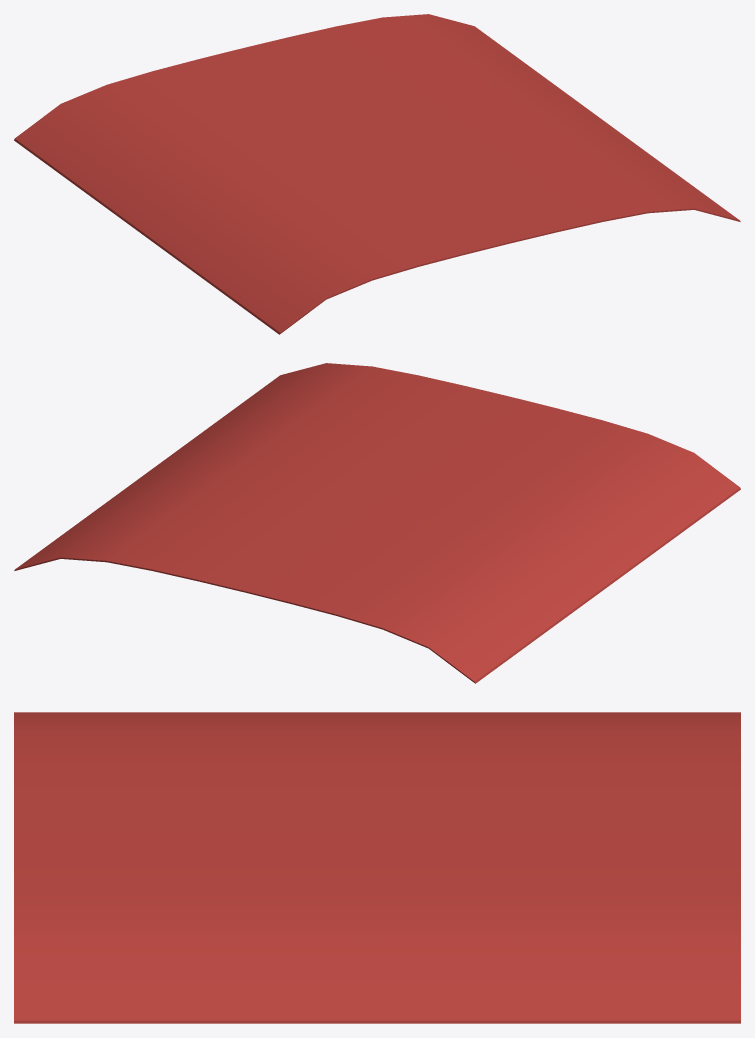
Rendered from valanced_tip.glb.
3 views of the same model, one above another, from view 1: azimuth 30°, elevation 25°; view 2: azimuth 150°, elevation 25°; view 3: azimuth 270°, elevation 25° (orthographic). The views are drawn at different scales.
Visible parts, largest first — view 1: lod0; view 2: lod0; view 3: lod0.
Part boxes in pixels (box(x1,y1,x2,y2)): lod0: box(14, 14, 740, 334); lod0: box(14, 363, 740, 683); lod0: box(14, 712, 740, 1023).
Size of what is drawn, in the model's own units: 1 by 0.0759 by 1.
